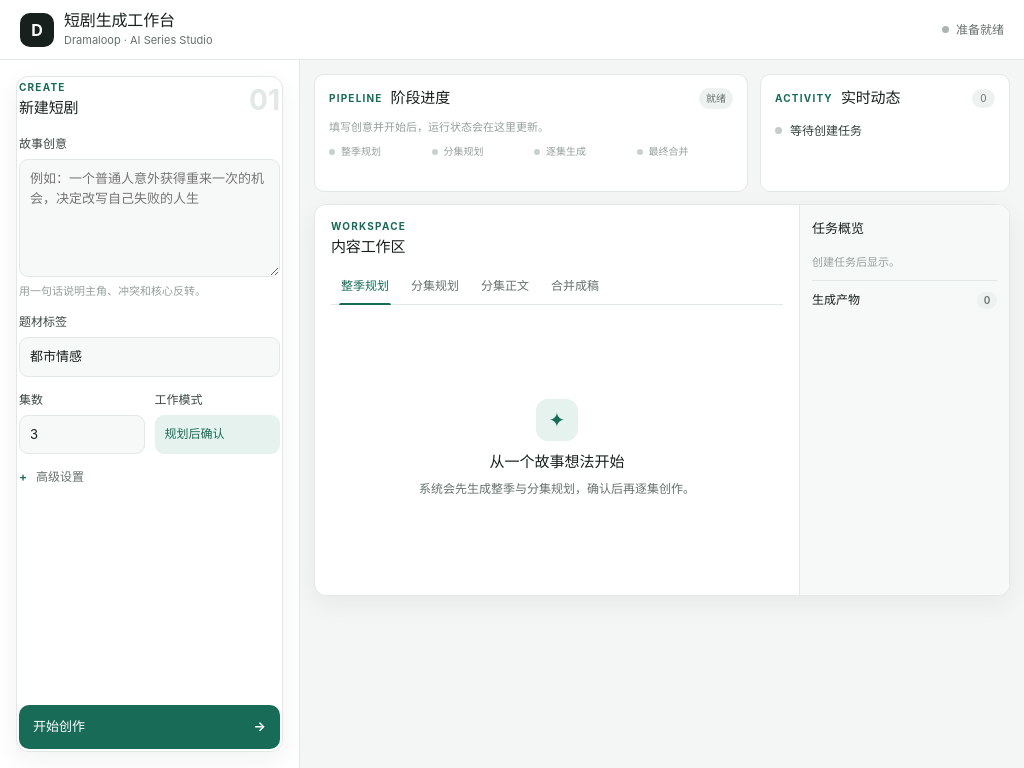
it: does not show placeholder story while a real run is still running
Type "女主复仇短剧设定" into the text box named "idea" at (150, 218), box x1=19 y1=159 x2=280 y2=276
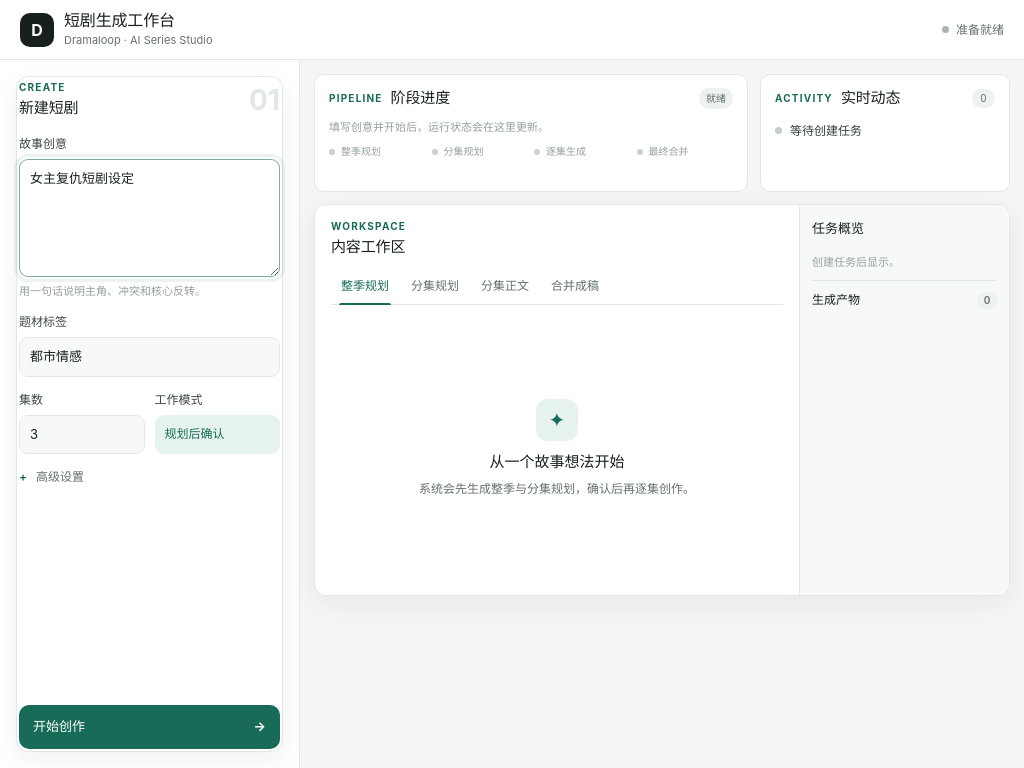
Click the button "开始创作 →" at (59, 726), box x1=19 y1=705 x2=280 y2=749
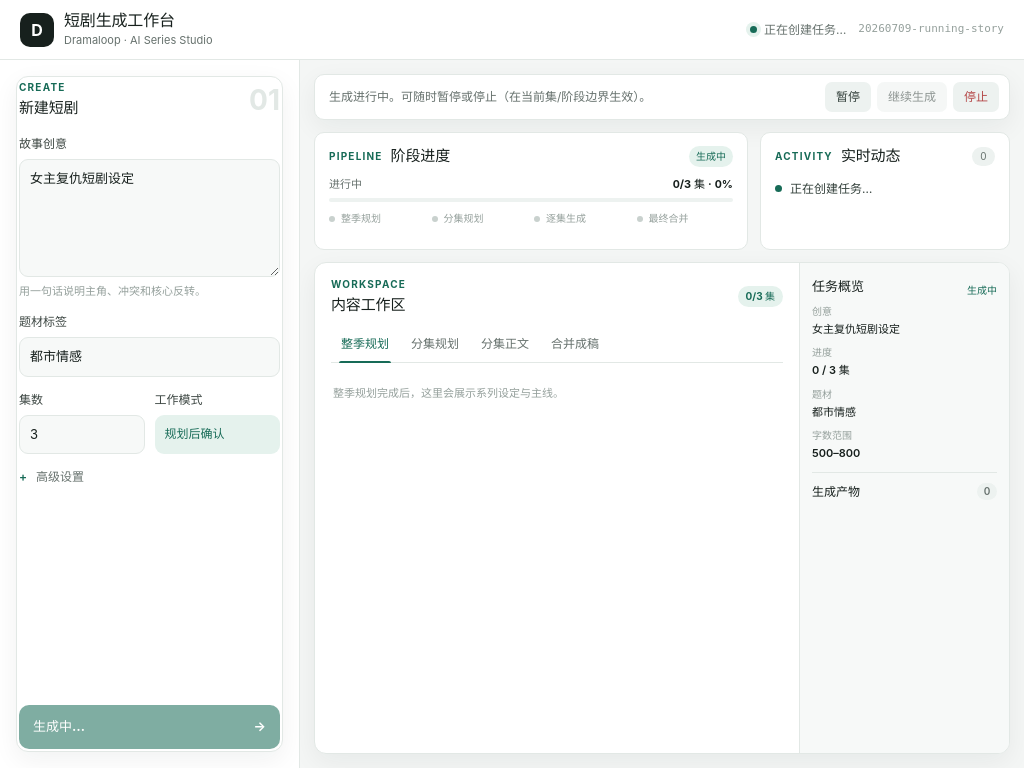
Expected: the text "20260709-running-story" is shown, x1=858 y1=21 x2=1004 y2=38
Click the tab "分集正文" at (505, 344), box x1=471 y1=326 x2=539 y2=362
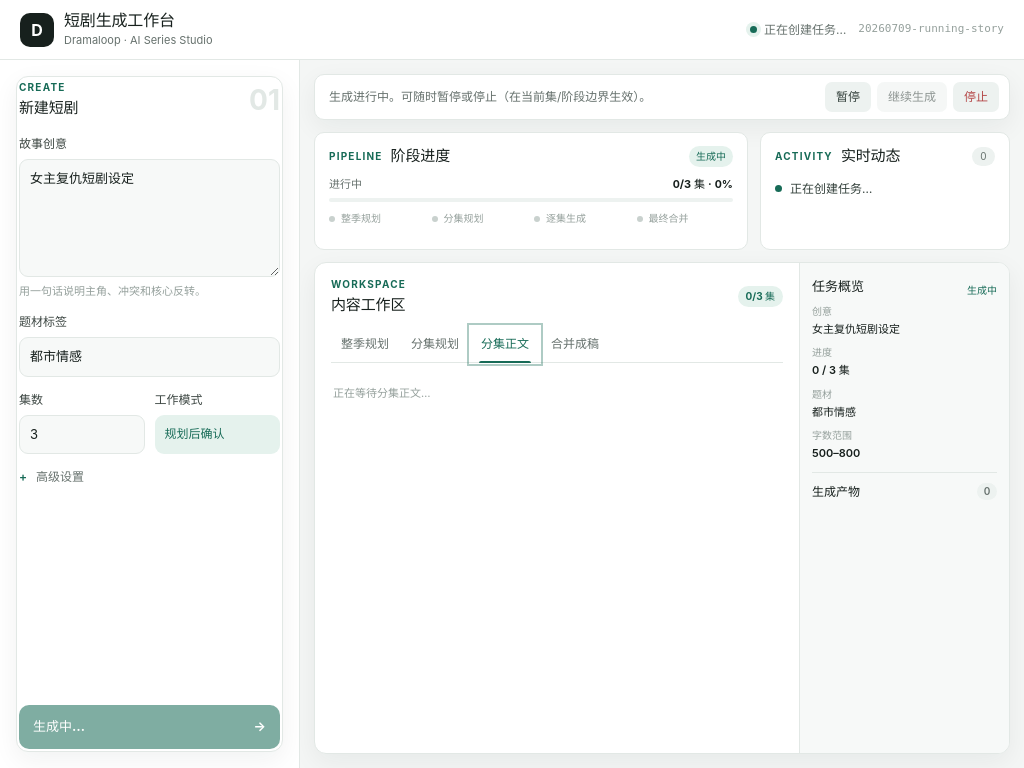
Expected: the text "正在等待分集正文…" is shown, x1=333 y1=386 x2=430 y2=400
